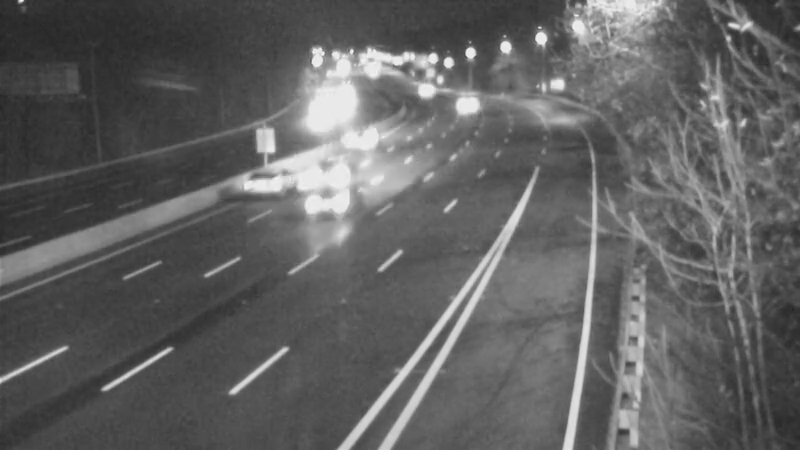vehicle: (296, 133, 376, 213), (227, 140, 307, 220), (277, 163, 357, 243), (437, 75, 487, 125), (338, 104, 388, 154), (290, 99, 340, 149)
